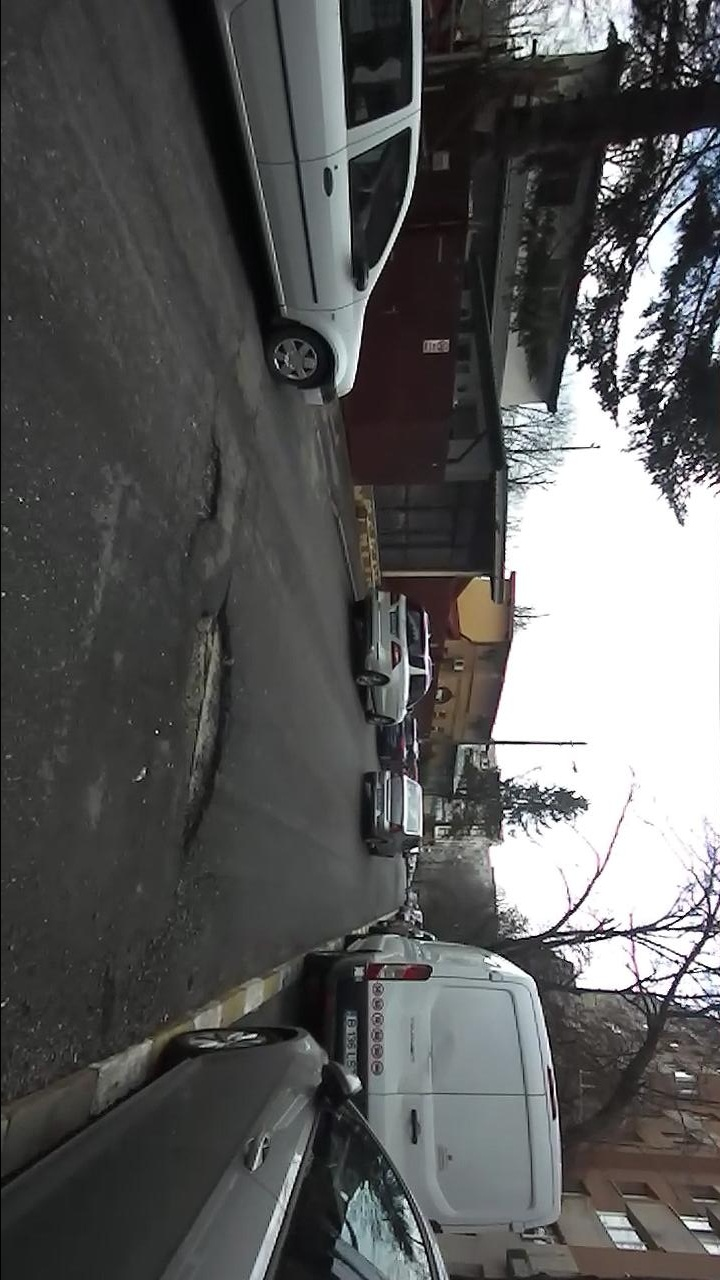pothole: (158, 578, 241, 871), (184, 424, 226, 556)
